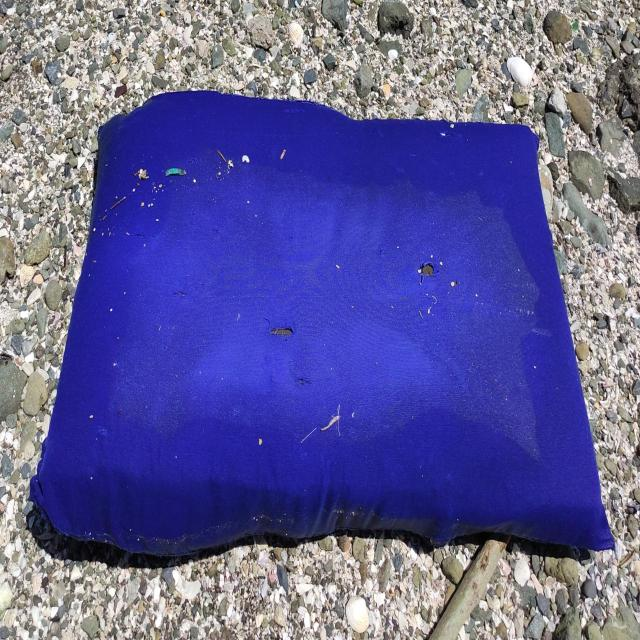textile_waste: (30, 87, 619, 559)
